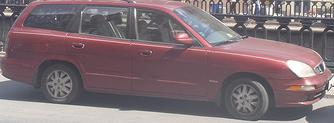front_view: (282, 48, 332, 107)
headlight: (280, 56, 317, 79)
side_glass: (79, 8, 207, 54)
